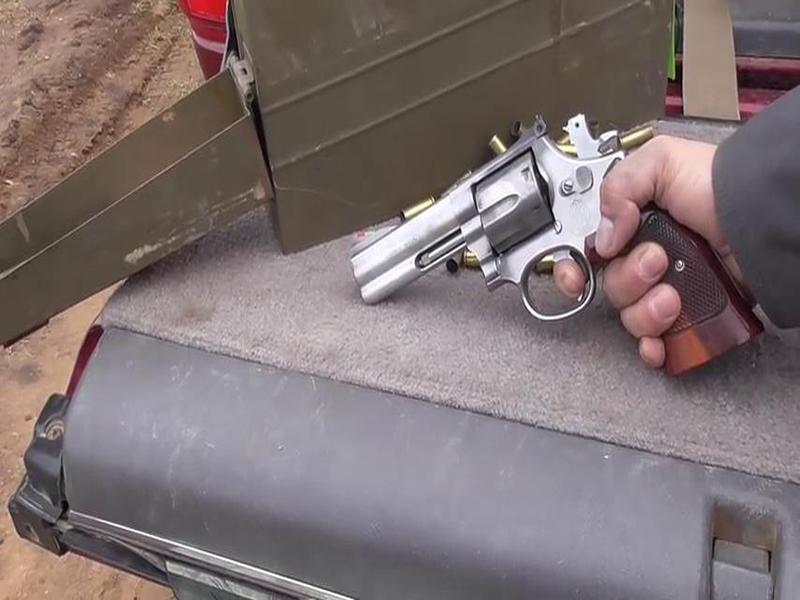Revolver: (345, 119, 671, 374)
